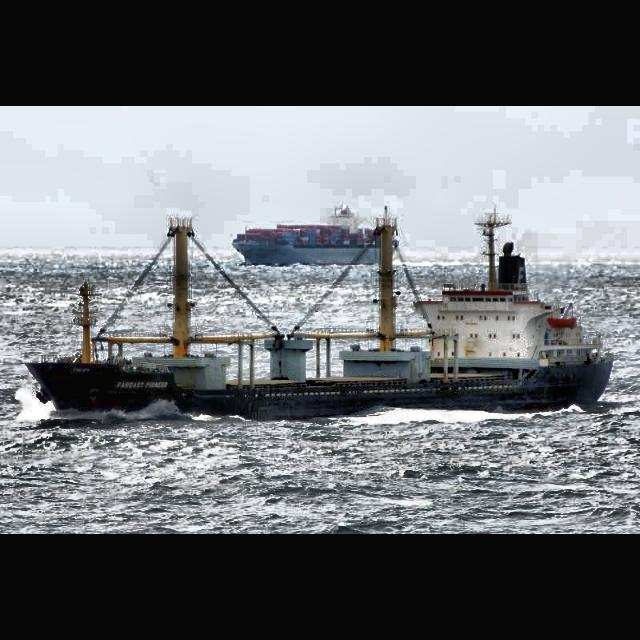bulk_carrier: (20, 204, 616, 426)
container: (230, 198, 406, 266)
